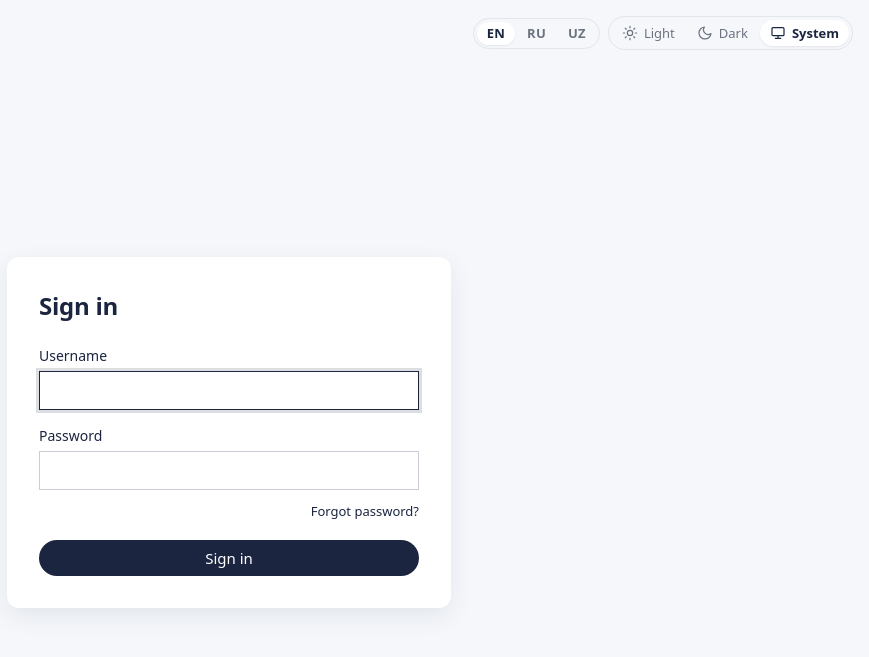
Scenario: LoginPage — error surfacing › collapses a 500 to the generic credential error (no internal detail leak)
The image size is (869, 657).
Type "operator" into the field labelled "Username" at (229, 390), box [39, 370, 419, 410]
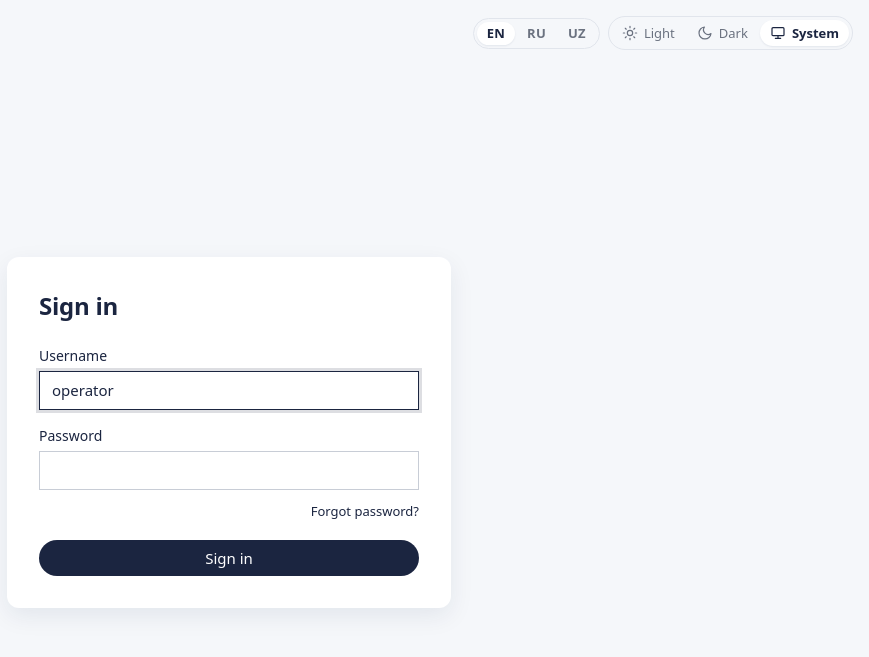
Type "secret" into the password field labelled "Password" at (229, 470), box [39, 450, 419, 490]
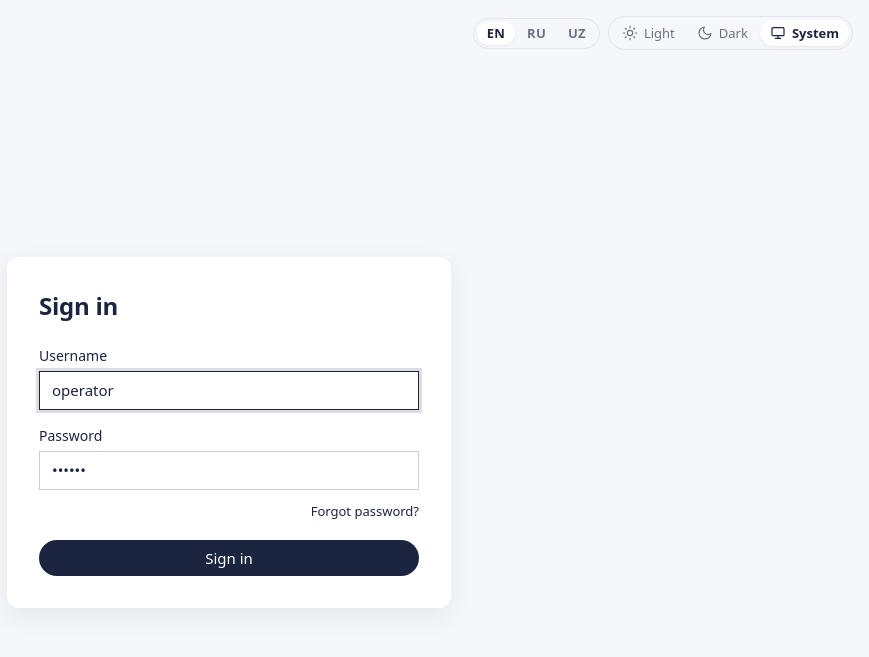
Click the button "Sign in" at (229, 558), box [39, 540, 419, 576]
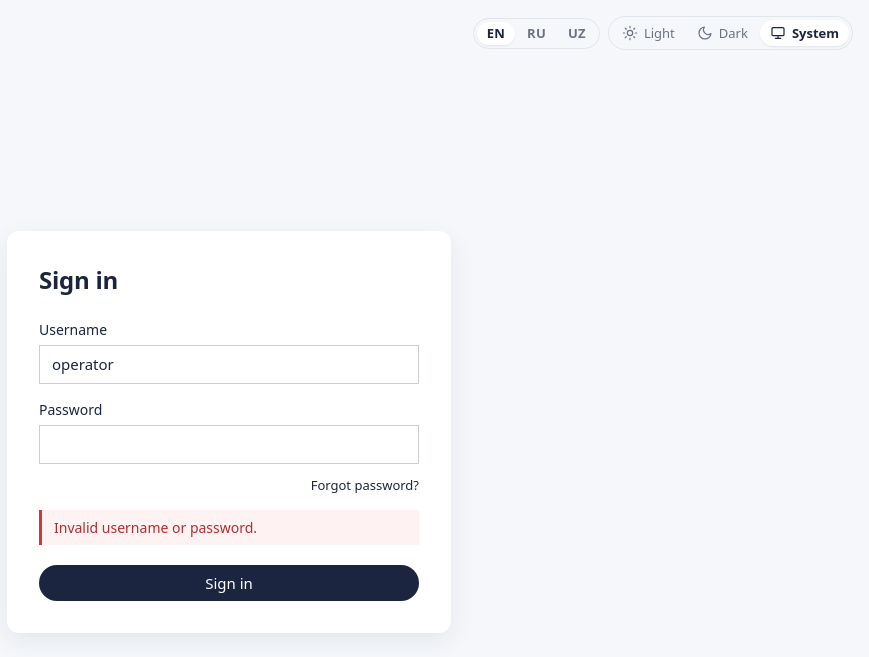
Expected: the text "Invalid username or password." is shown, [39, 510, 419, 545]
